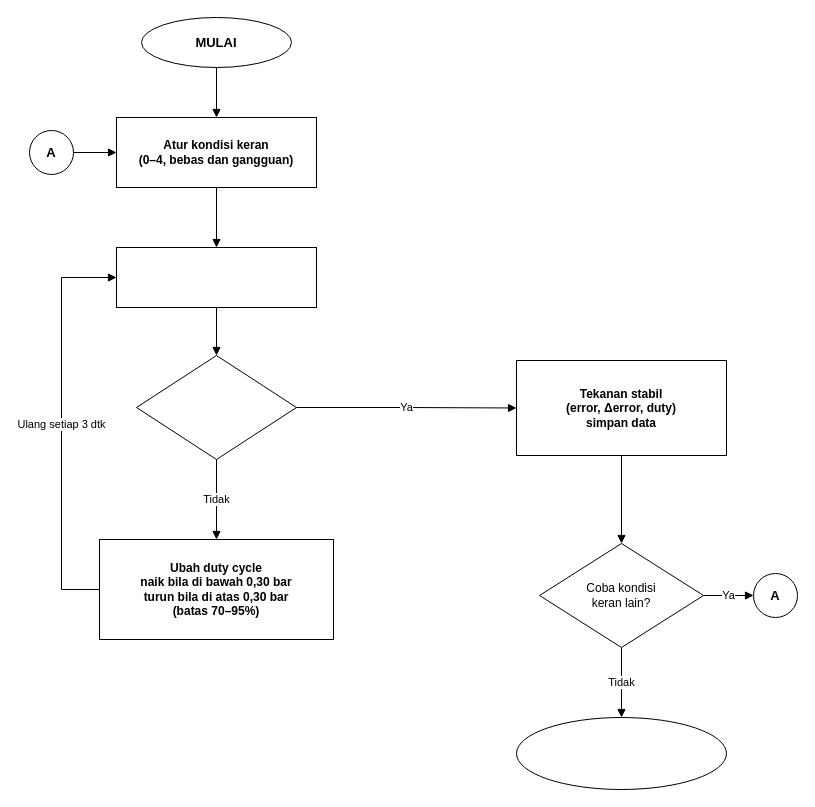
Image size: 815x807. Some labels were removed from this diagram. The shapes that lost their labels are listed below. From the top down, each one's centre as x and y in pixels, then its label:
At point (216, 277): "Baca tekanan air (sensor)".
At point (216, 407): "Tekanan = SP?".
At point (621, 753): "STOP Pengumpulan Dataset".
